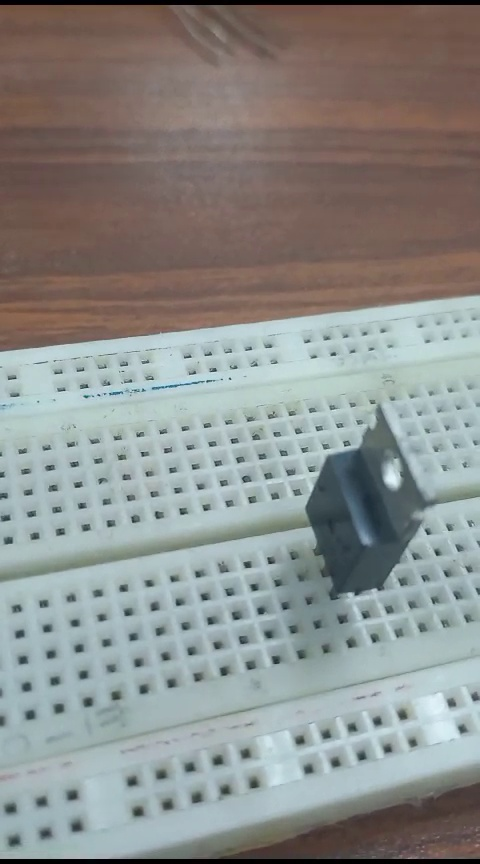voltage regulator: (293, 401, 433, 609)
